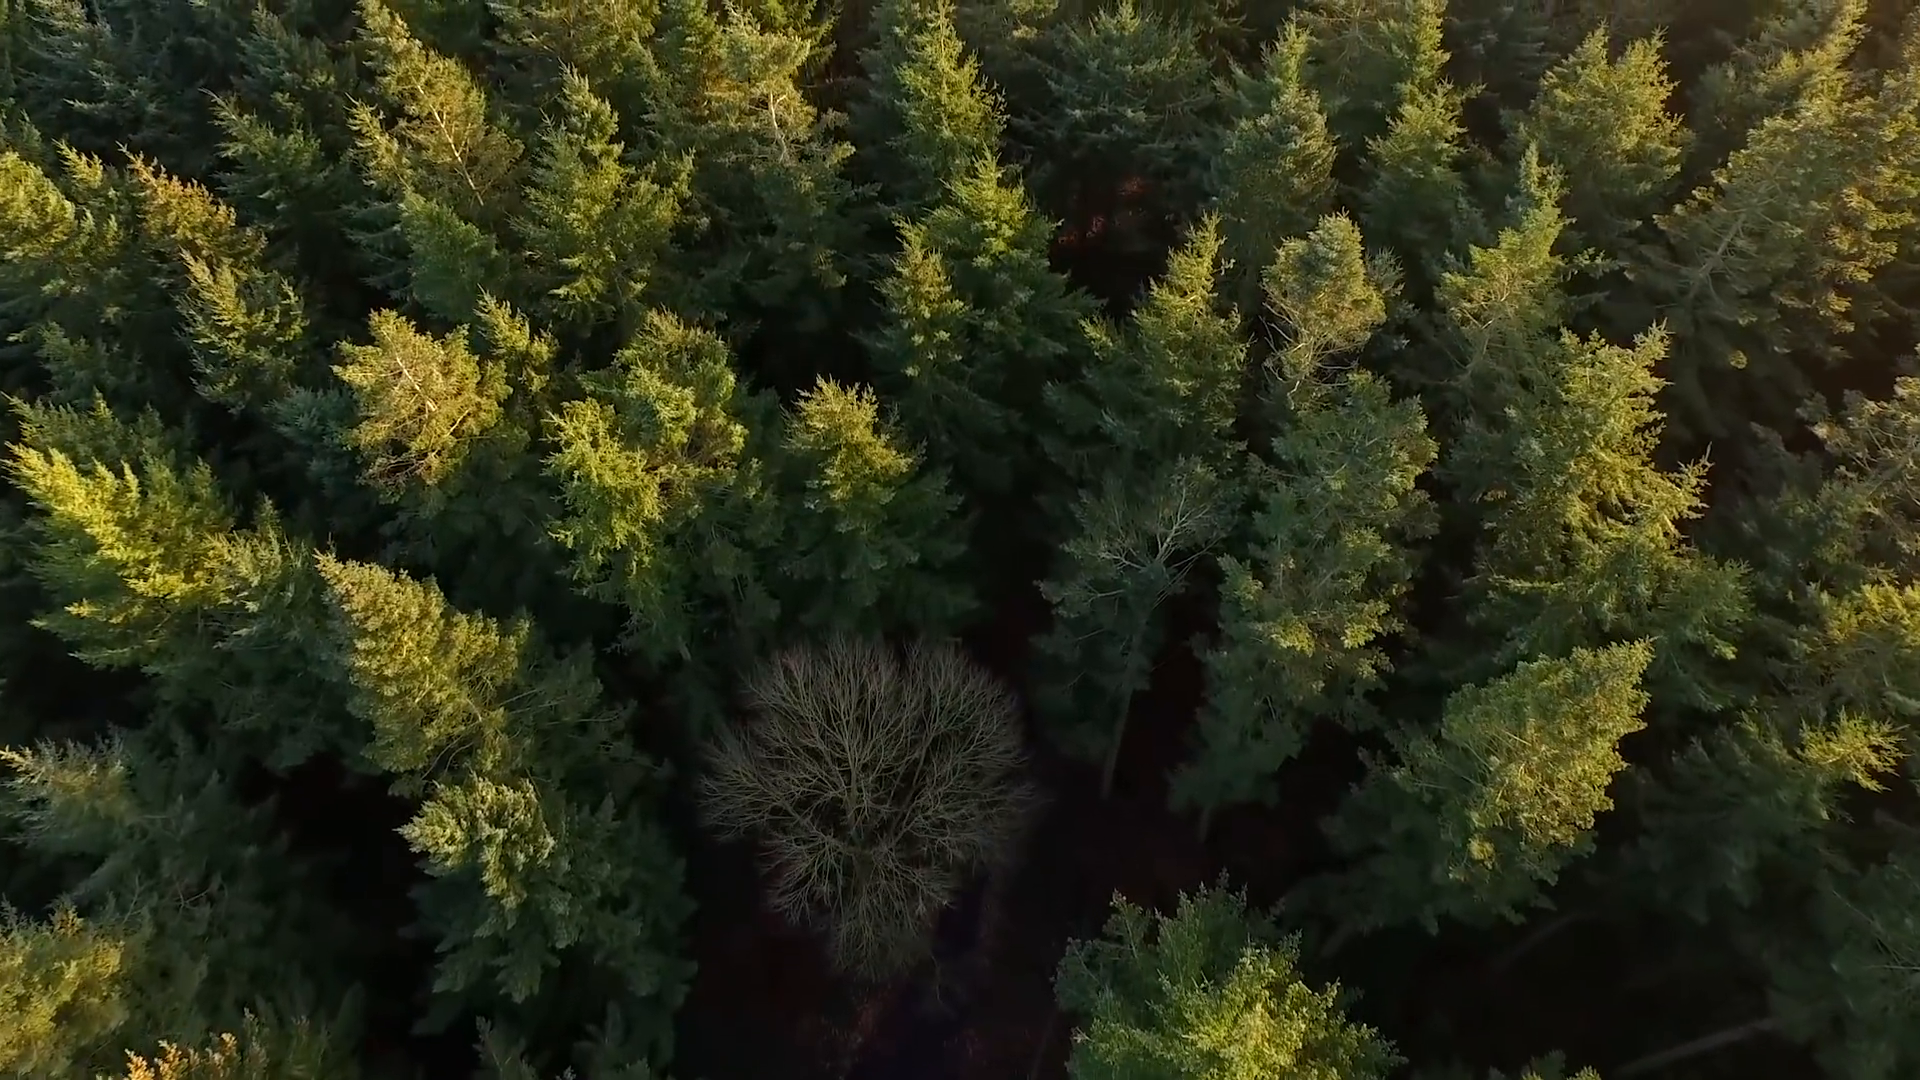fruit-tree: (695, 650, 1025, 931), (1, 441, 281, 671), (1050, 887, 1369, 1080), (304, 544, 561, 779), (1247, 368, 1457, 627), (549, 304, 751, 566), (1439, 621, 1671, 840), (776, 366, 950, 615), (380, 749, 633, 908), (1, 896, 253, 1055), (1, 705, 253, 864), (1093, 197, 1254, 433), (1713, 683, 1909, 868), (1754, 372, 1920, 580), (688, 76, 854, 285), (1701, 81, 1850, 280), (329, 309, 480, 498), (1235, 199, 1397, 367), (526, 59, 658, 256), (1572, 441, 1743, 588), (1343, 65, 1514, 212), (1429, 139, 1600, 286), (1187, 76, 1358, 223), (1528, 302, 1699, 449), (368, 172, 505, 310), (878, 1, 1006, 140), (1051, 1, 1178, 140), (950, 135, 1058, 291), (857, 208, 965, 364), (1, 142, 101, 304), (197, 76, 314, 196), (110, 129, 227, 249), (163, 239, 280, 359), (321, 91, 435, 190), (1, 376, 197, 434), (339, 1, 453, 98), (218, 1, 332, 98), (1612, 19, 1691, 148), (1532, 18, 1611, 147), (470, 282, 568, 361)
